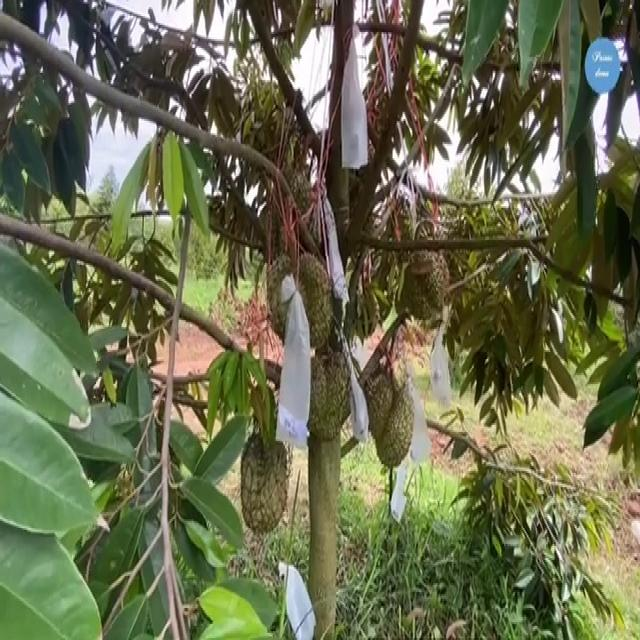durian: (266, 242, 336, 351), (359, 358, 416, 477), (240, 425, 292, 537), (300, 347, 356, 451), (405, 240, 453, 322)
